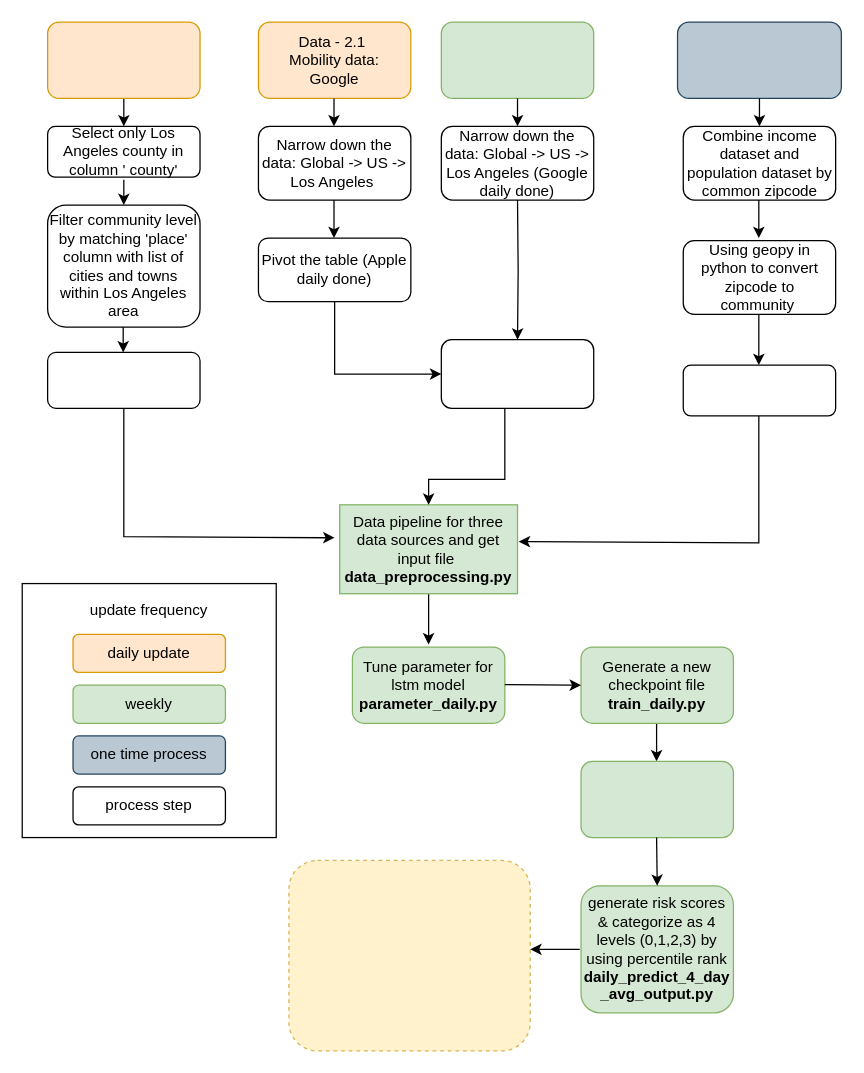
Image size: 864x1073. Some labels were removed from this diagram. Here are the shapes that lost their labels. From the top down, the centre of each, then its label:
At pixel 123 59: "DATA - 1 COVID-19 case count by neighborhood".
At pixel 517 59: "Data - 2.2 Mobility data: Apple".
At pixel 758 59: "DATA - 3 population, density and income level".
At pixel 123 379: "Set automatic data download and read pipeline".
At pixel 517 373: "Calculate 7-day rolling average (Google & Apple weekly done)".
At pixel 759 390: "Choosing target community".
At pixel 656 799: "Run model for train and test dataset main.py".
At pixel 409 955: "output details time_stamp (Daily) region risk_socre risk_level".
